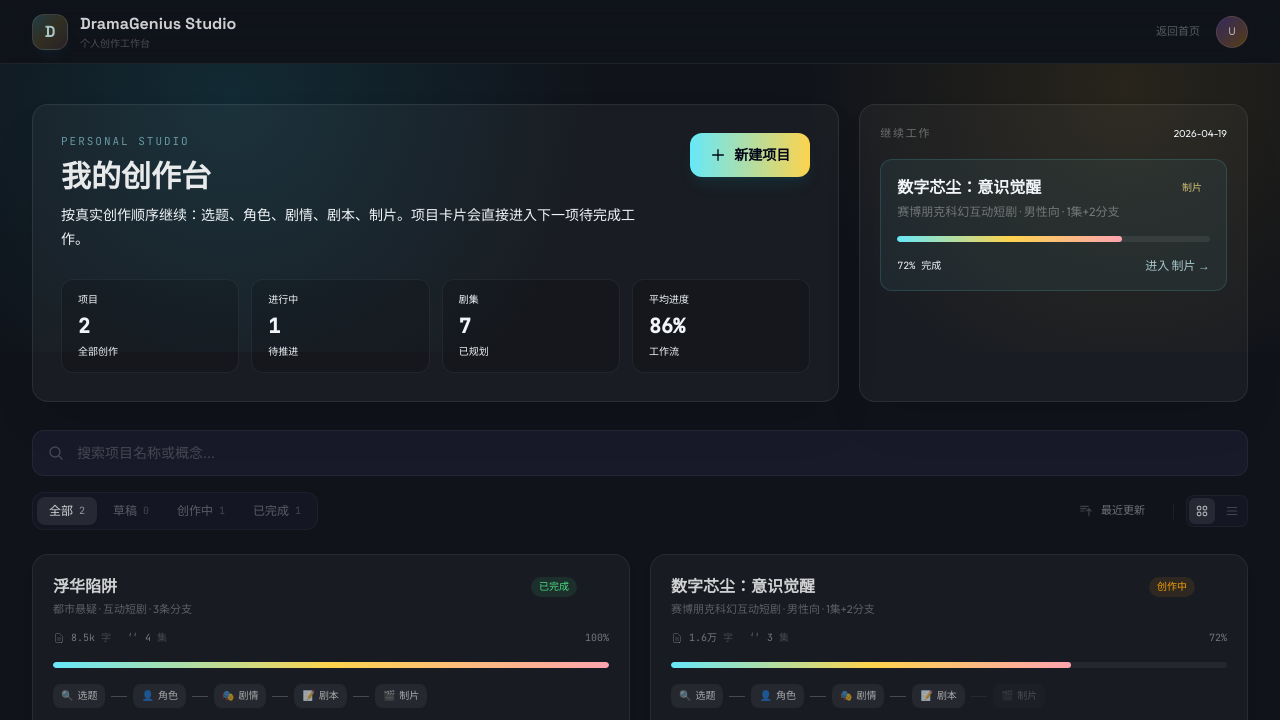
it: ProjectsPage › 交互测试 › filters by status tab click
Expected: the heading "浮华陷阱" is shown, top-left (53, 576), bottom-right (117, 597)
Step 1. Click the button "创作中 1" → point(201, 511), box top-left (165, 497), bottom-right (237, 525)
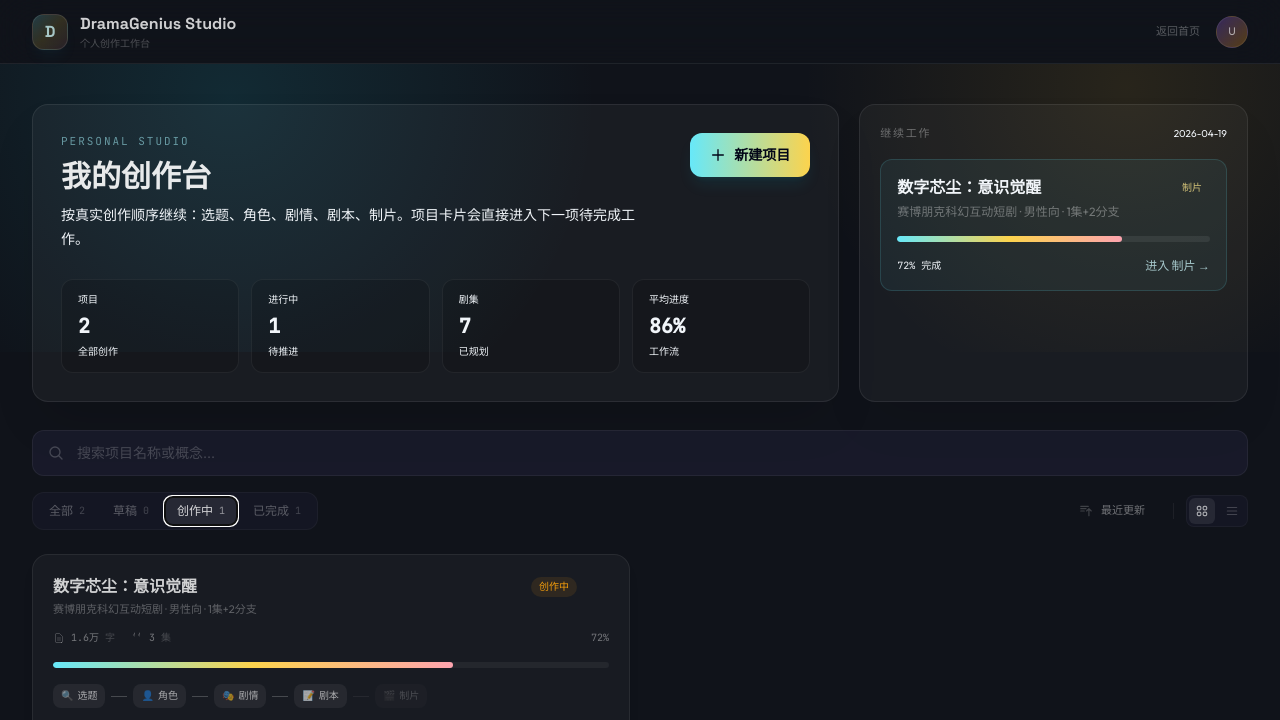
Result: the heading "浮华陷阱" is gone
